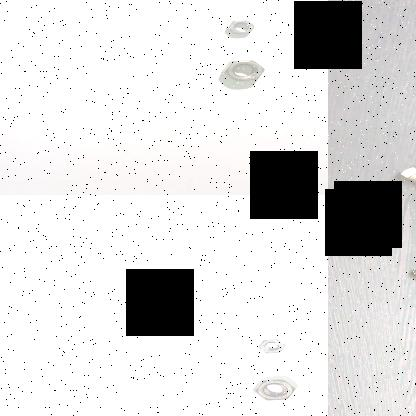Bolts: (392, 162, 416, 195), (405, 262, 416, 300)
NUTS: (218, 56, 267, 82), (250, 375, 300, 399), (252, 334, 292, 356), (224, 16, 260, 34)
